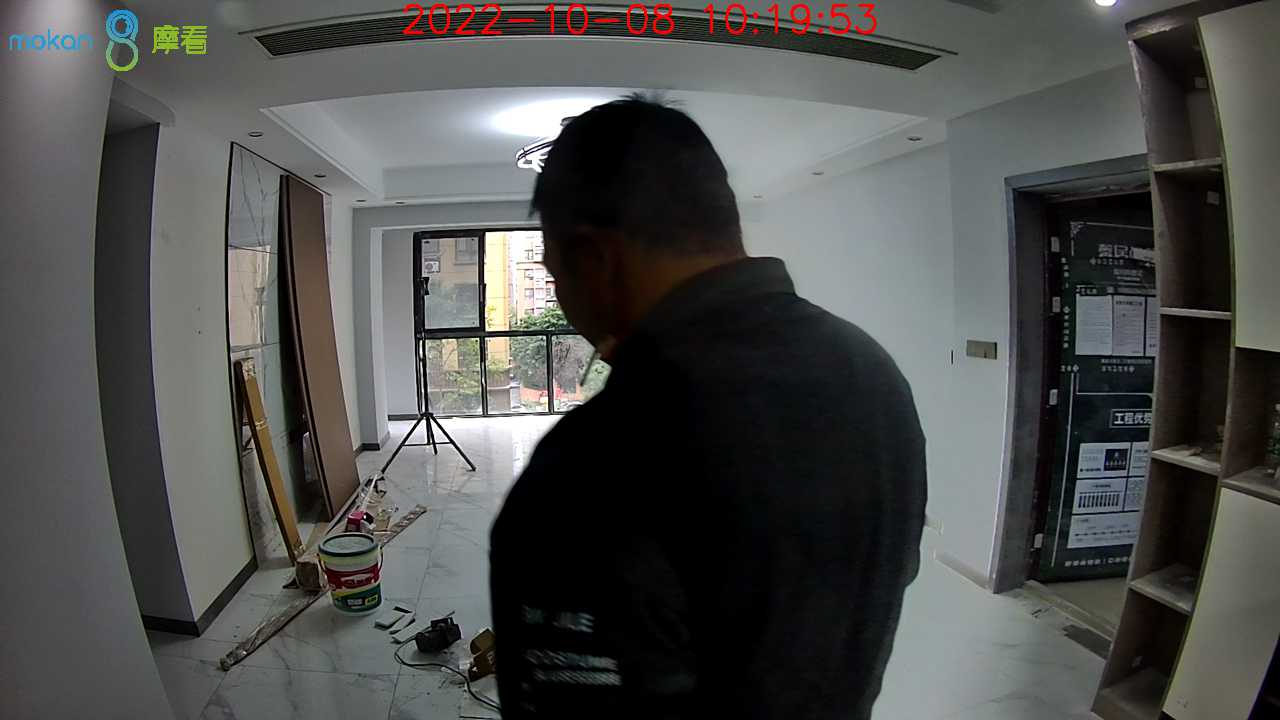people: (486, 93, 928, 717)
window: (419, 237, 559, 412)
